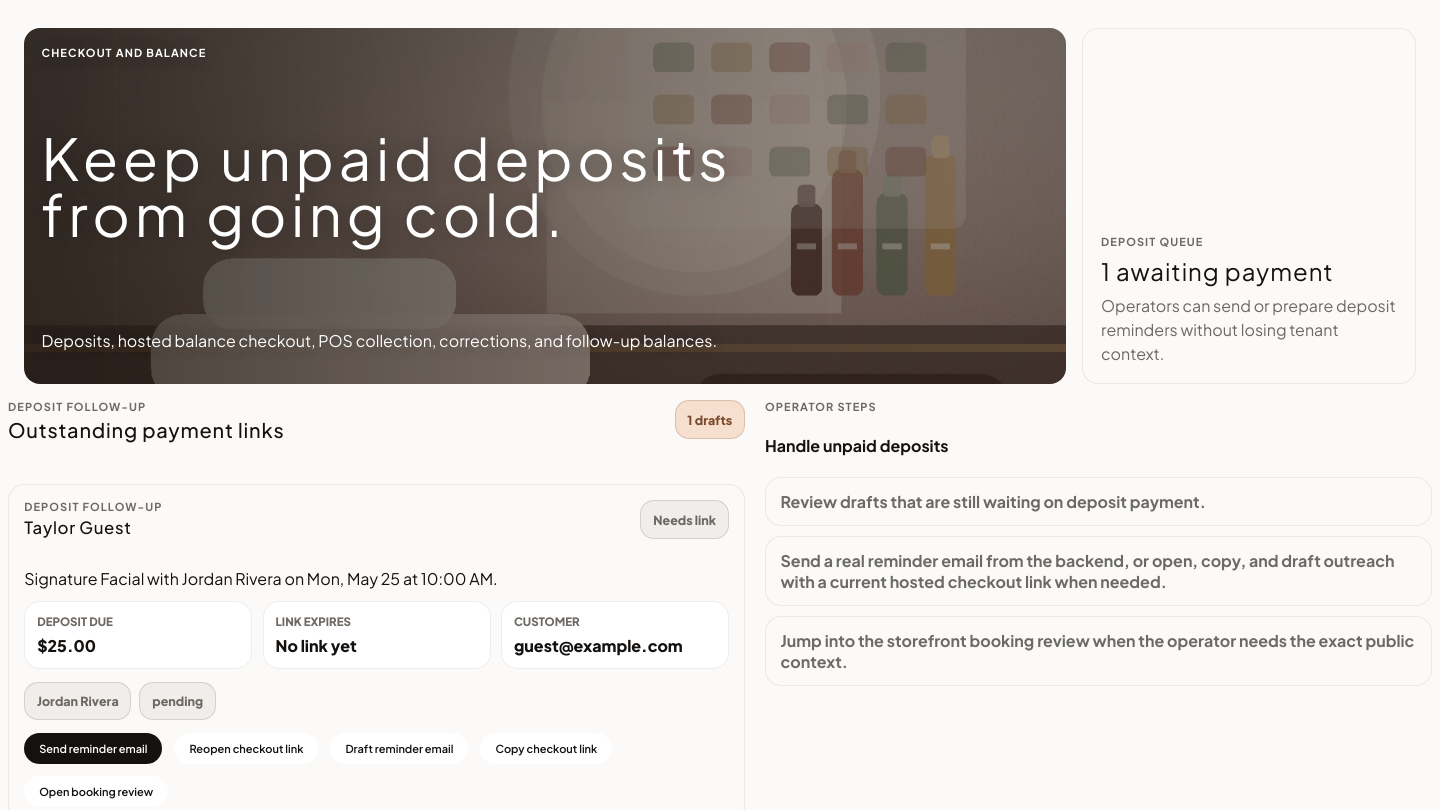
Test: PaymentsPage › sends a real reminder email and refreshes the follow-up queue
Click the button "Send reminder email". click: (93, 748)
box: [24,733,162,764]
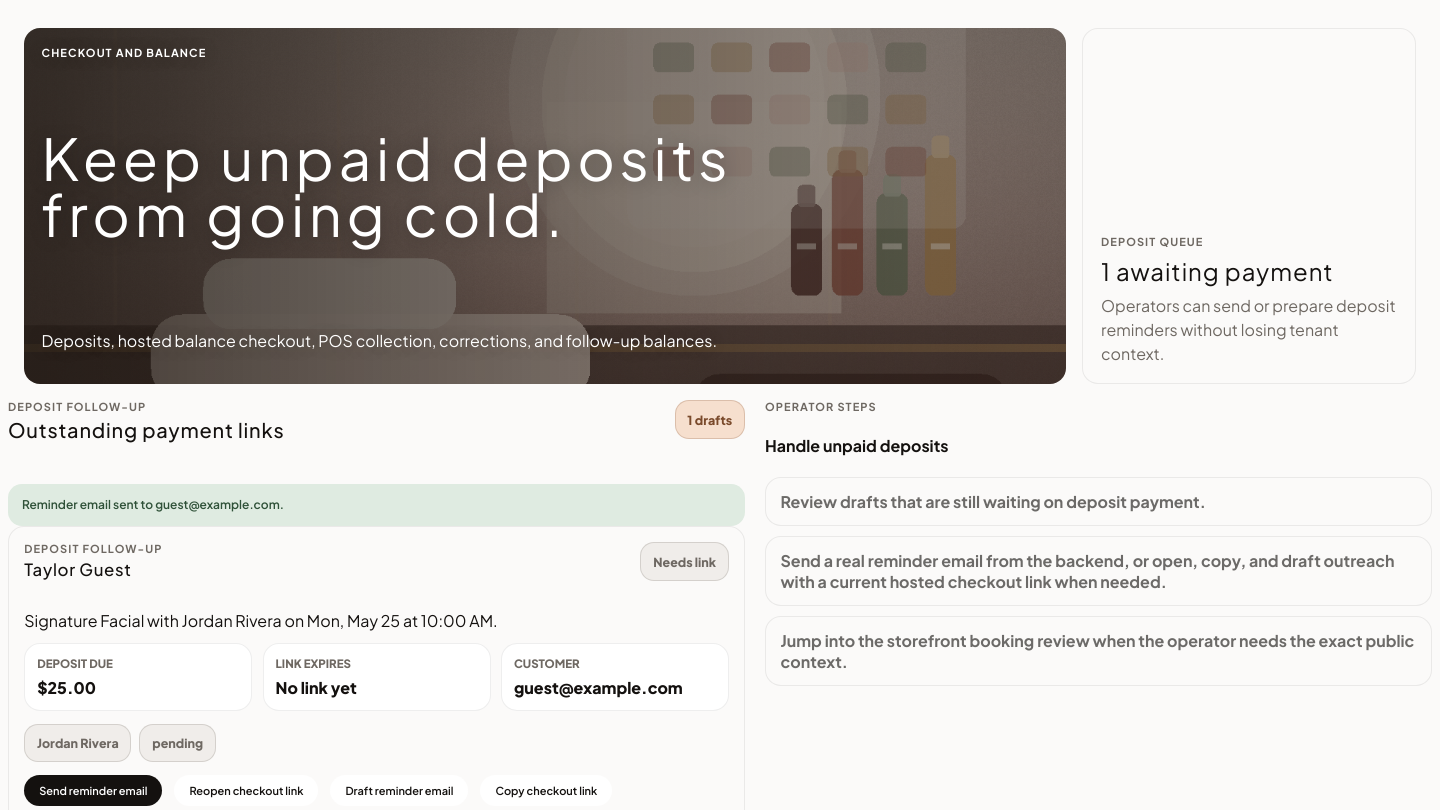
Expected: the text "Reminder email sent to guest@example.com." is shown, [8,484,745,526]
